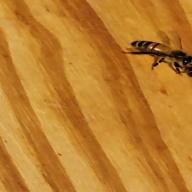Bee: (121, 38, 192, 76)
